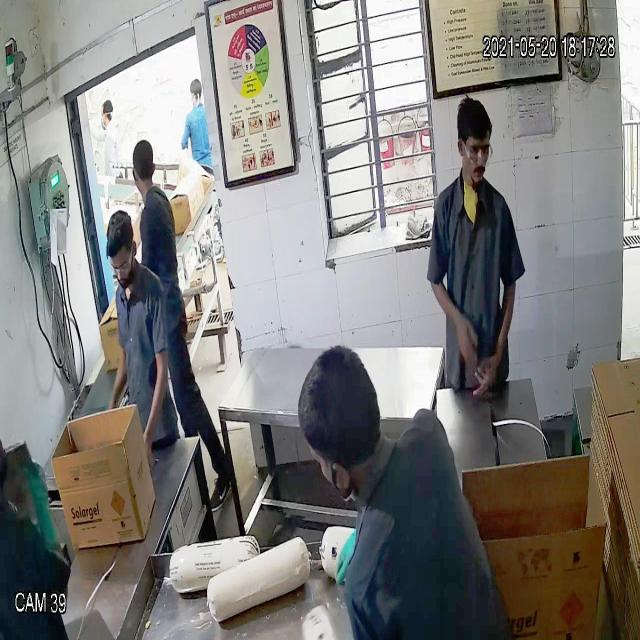glasses: (458, 132, 496, 170), (105, 253, 137, 281)
